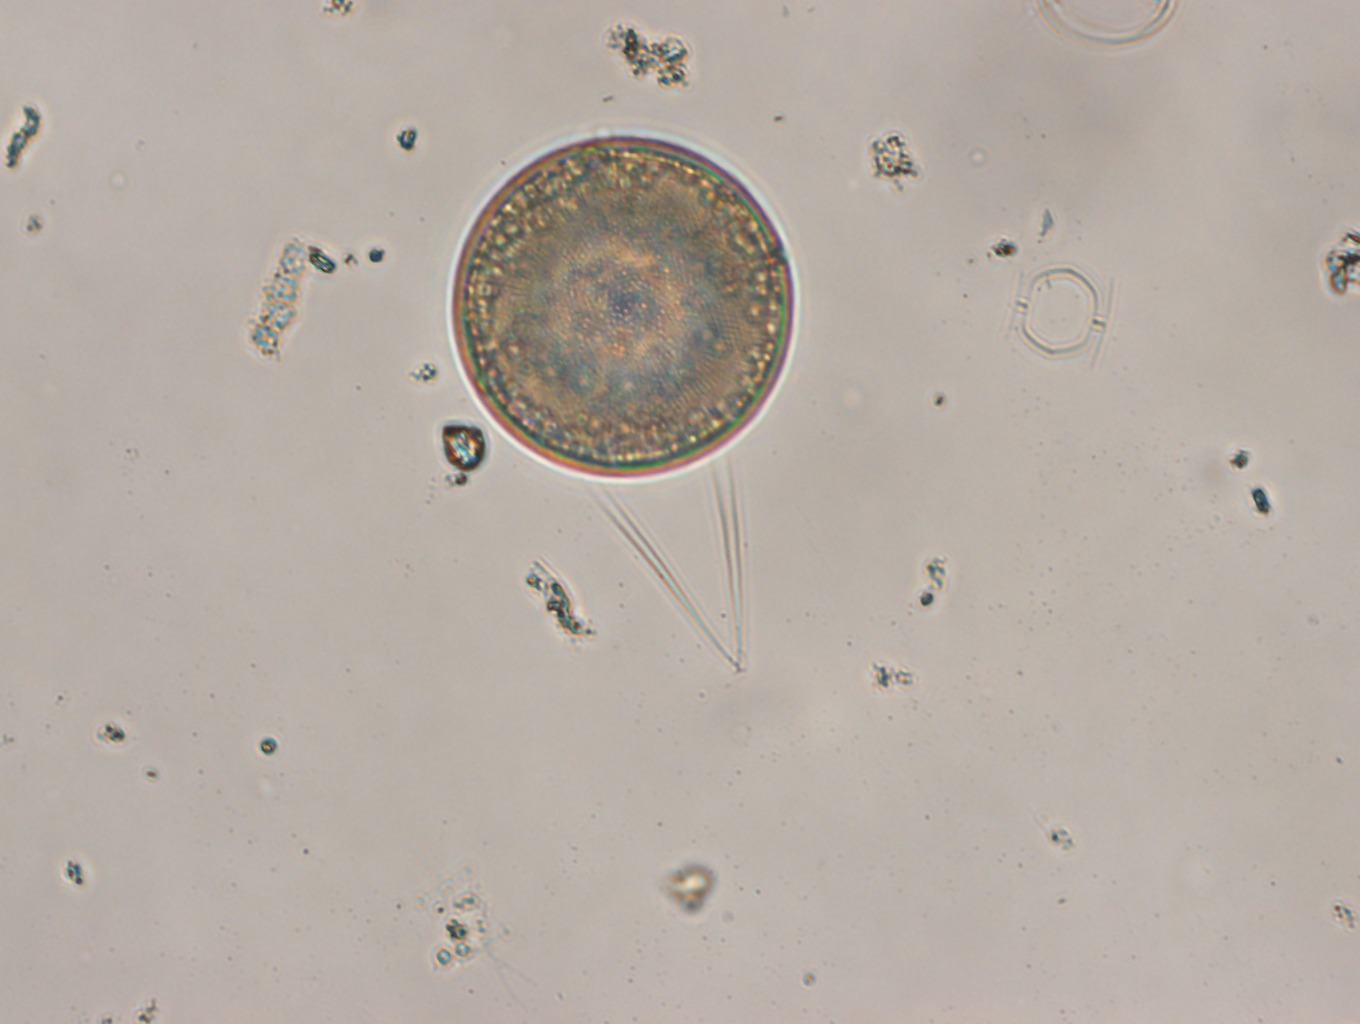coscinodiscus: (447, 131, 807, 484)
